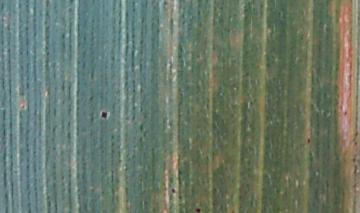tarspot: (97, 108, 112, 122), (169, 184, 179, 197), (193, 204, 205, 213), (305, 135, 313, 147)
